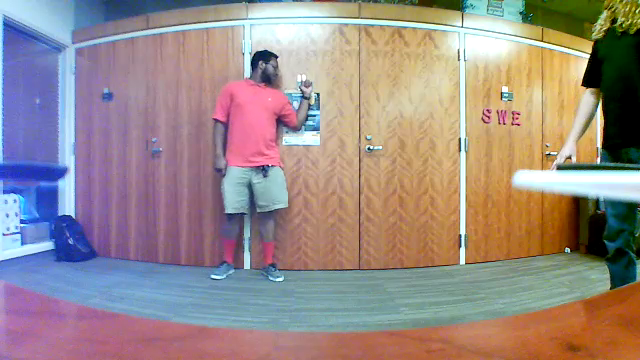up: (295, 70, 317, 102)
